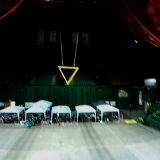Yellow_Triangle_Gshape: (57, 65, 78, 84)
